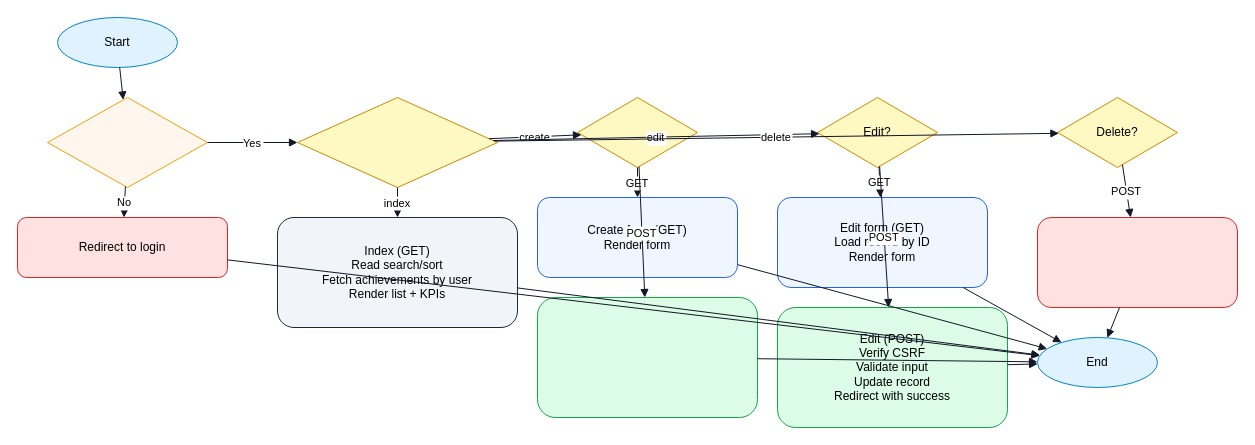
This 1255x445 diagram has some shape labels left out. The shapes that lost their labels are listed below. From the top down, each one's centre as x and y in pixels, then its label:
At pixel 127 142: "Check session (student logged in?)".
At pixel 397 142: "Request route? index / create / edit / delete".
At pixel 637 132: "Create?".
At pixel 1137 262: "Delete (POST) Verify CSRF Delete record Redirect with success".
At pixel 647 357: "Create (POST) Verify CSRF Validate input Insert record Redirect with success".
